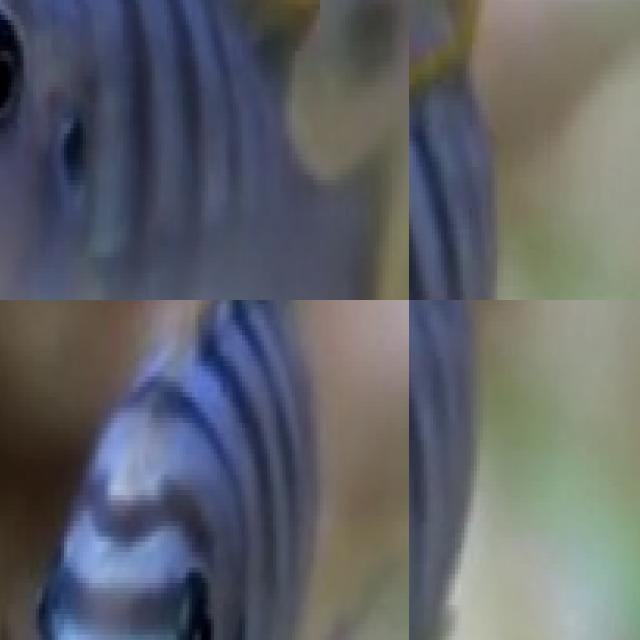fish: (0, 0, 409, 300), (409, 0, 534, 300), (409, 300, 505, 640)
